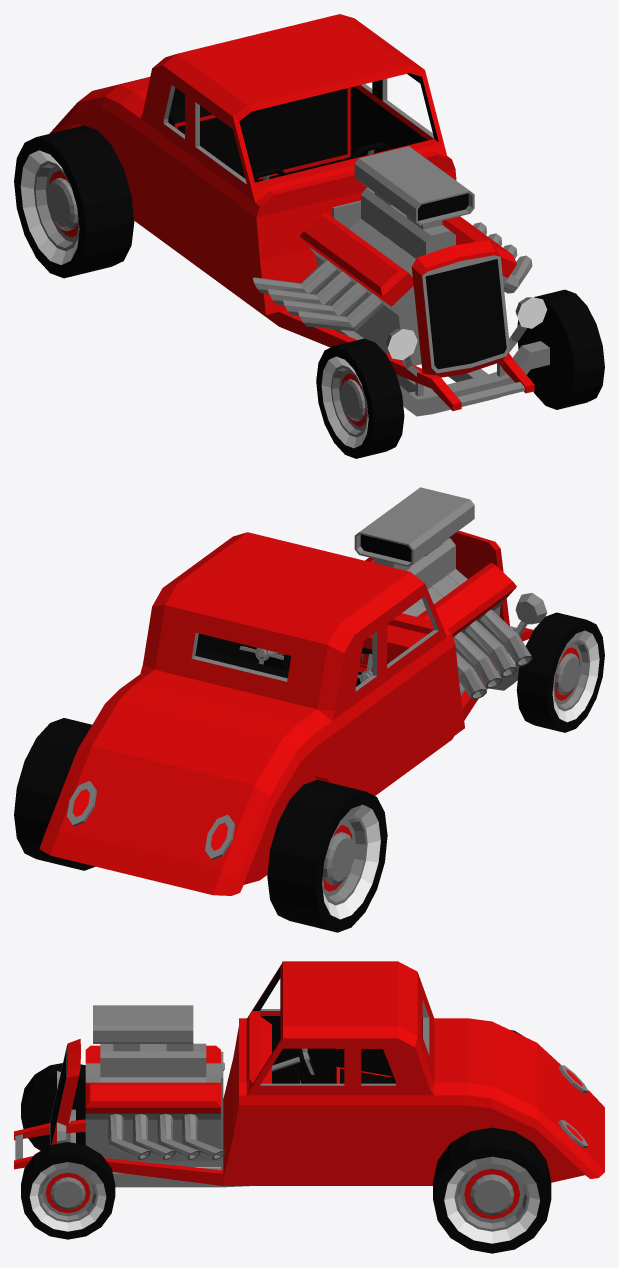
Rendered from Hot_rod.fbx.
3 renders of one model, top to bottom at view 1: azimuth 30°, elevation 25°; view 2: azimuth 150°, elevation 25°; view 3: azimuth 270°, elevation 25°, orthographic. The views are drawn at different scales.
Parts seen in each view (by area): view 1: car.001, FWheels, RWheels; view 2: car.001, RWheels, FWheels; view 3: car.001, RWheels, FWheels.
Part boxes in pixels (x1,y1,x2,y2): car.001: (49, 14, 549, 416); FWheels: (316, 289, 604, 458); RWheels: (14, 125, 134, 278); car.001: (39, 487, 547, 895); RWheels: (14, 718, 387, 932); FWheels: (516, 612, 604, 732); car.001: (14, 961, 604, 1187); RWheels: (433, 1030, 551, 1253); FWheels: (21, 1063, 115, 1239).
Size of the model in its own units: 229 by 178 by 476.
